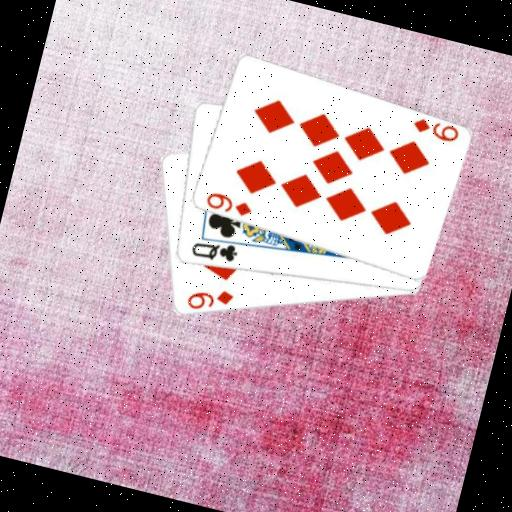9D: (182, 279, 237, 320), (201, 187, 256, 220), (408, 114, 462, 146)
QC: (186, 232, 241, 268)
